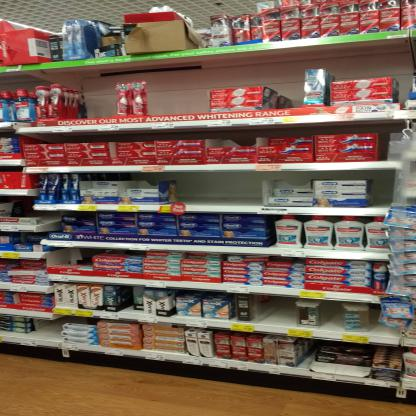Void: (180, 174, 260, 205), (144, 81, 209, 113), (73, 85, 113, 116), (257, 293, 294, 322), (272, 75, 302, 109), (375, 166, 393, 206), (334, 67, 395, 78), (54, 248, 94, 264), (322, 301, 340, 331), (272, 172, 308, 186), (372, 306, 386, 334)
